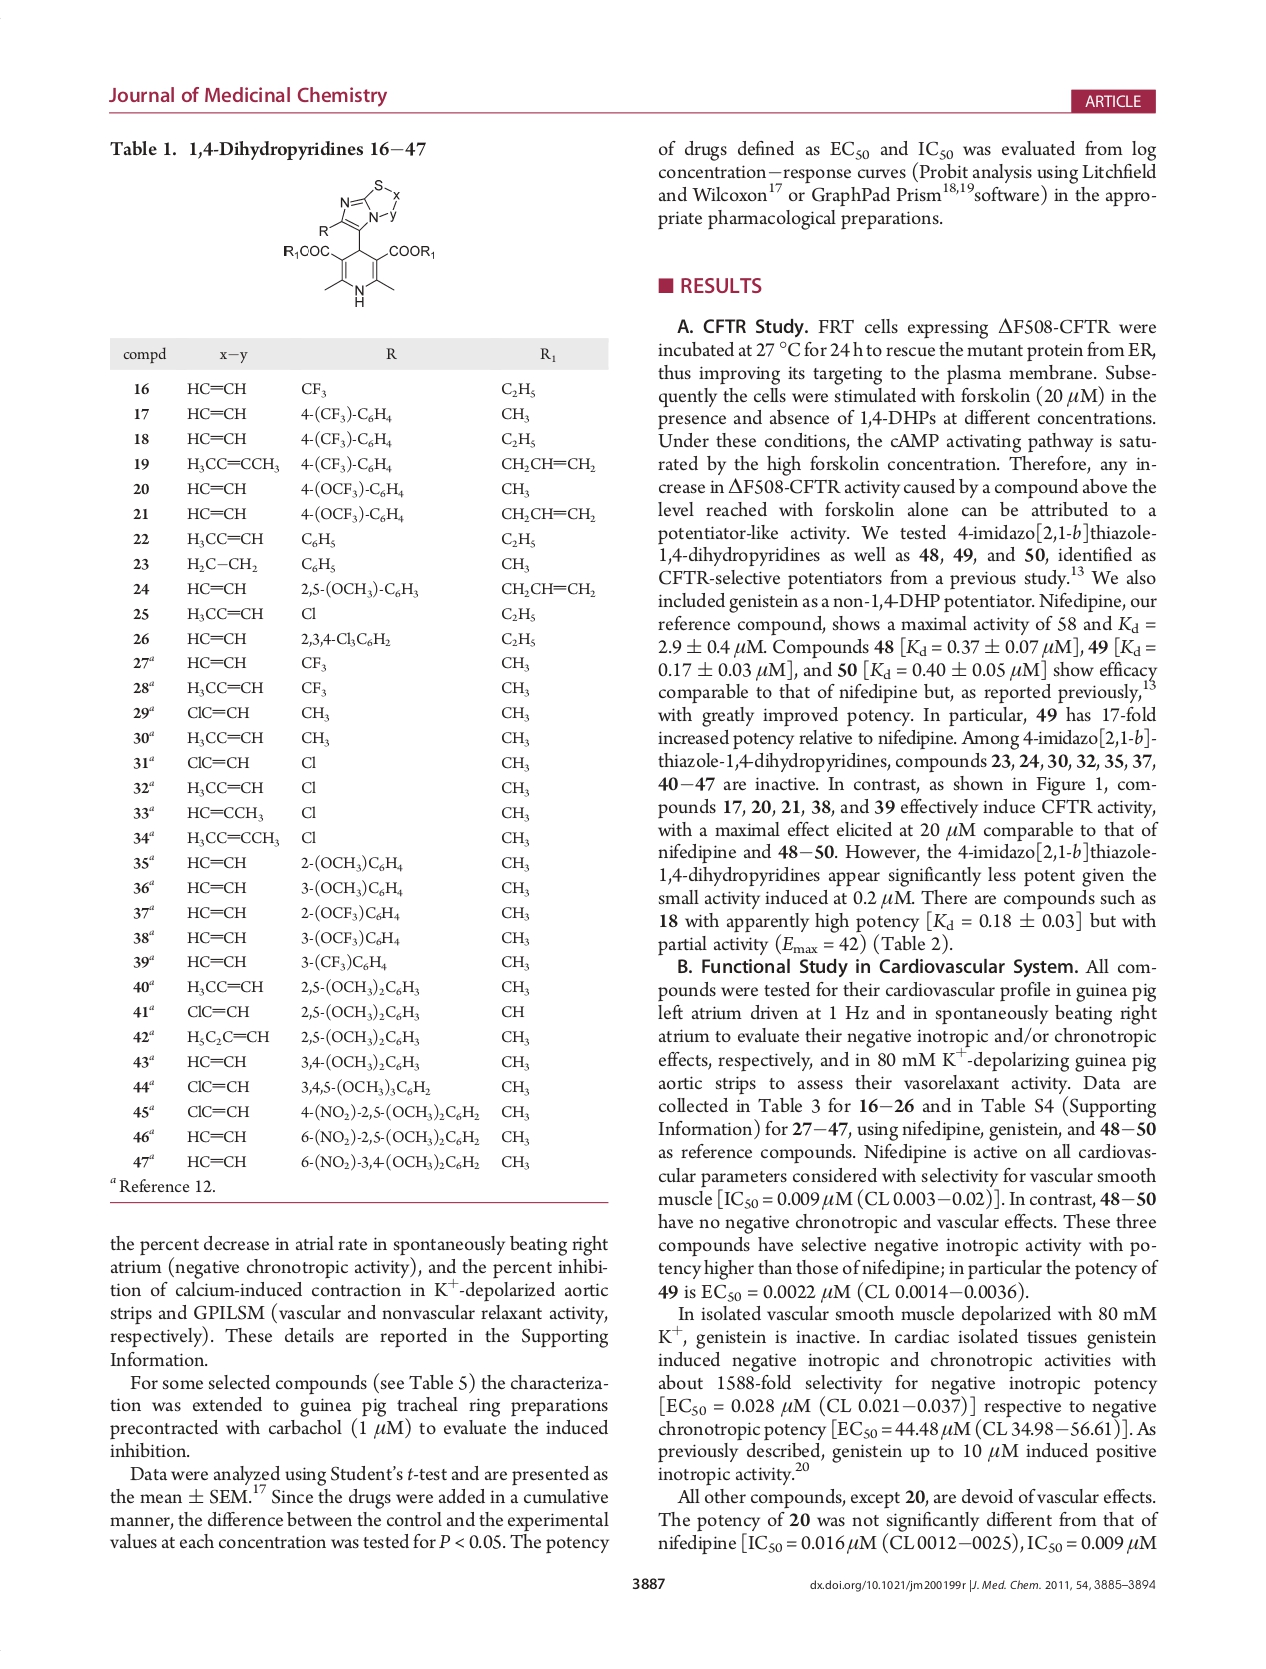exist_molecular: (278, 177, 439, 310)
